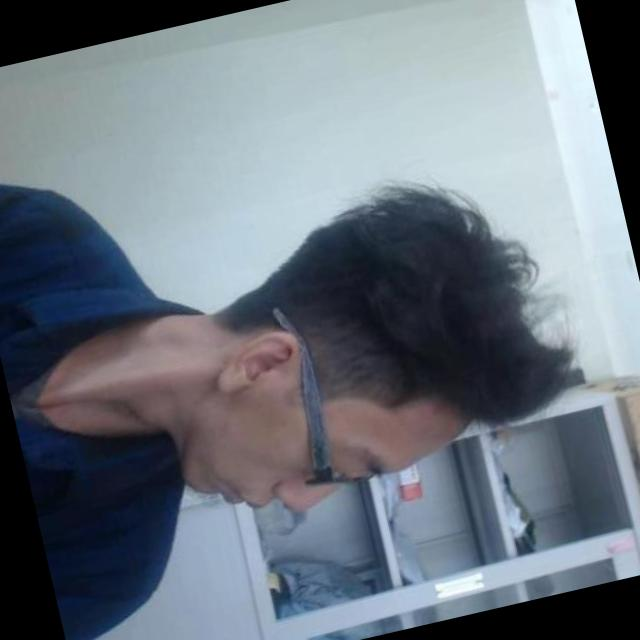bareface: (119, 136, 608, 560)
